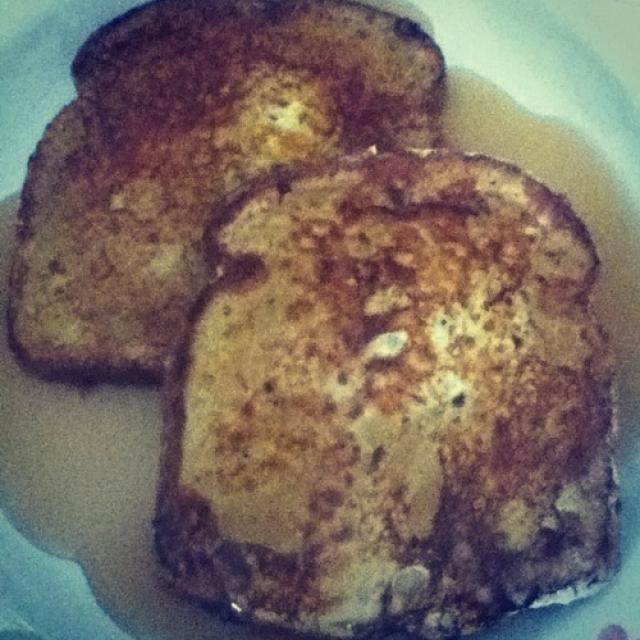面包点心: (8, 8, 617, 620)
